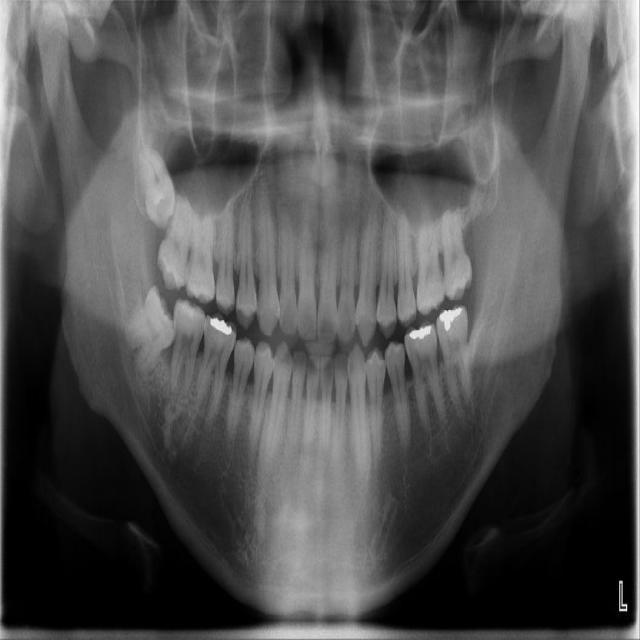3M ESPE Implant: (137, 143, 179, 233)
52: (401, 322, 445, 369), (197, 316, 240, 360), (433, 304, 470, 351)
73: (590, 550, 598, 572)
BioHorizons Implant: (442, 207, 474, 302)
Blue Sky Bio Implant: (435, 304, 471, 404)
Caries: (151, 196, 196, 294)
Implant: (167, 298, 208, 396)
Keystone Dental Implant: (101, 285, 193, 376)
